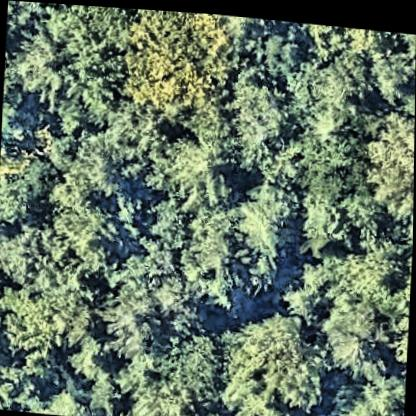tree-top: (21, 1, 133, 131), (232, 298, 341, 416), (125, 7, 233, 120), (176, 194, 282, 309), (70, 105, 159, 220), (41, 145, 116, 263), (301, 104, 382, 212), (152, 314, 236, 410), (106, 241, 184, 338), (0, 277, 75, 376), (158, 122, 236, 208), (319, 290, 393, 372), (363, 99, 415, 214), (0, 224, 78, 296), (228, 64, 296, 146), (303, 38, 371, 120), (0, 146, 62, 229), (347, 229, 414, 304), (337, 352, 407, 416)
